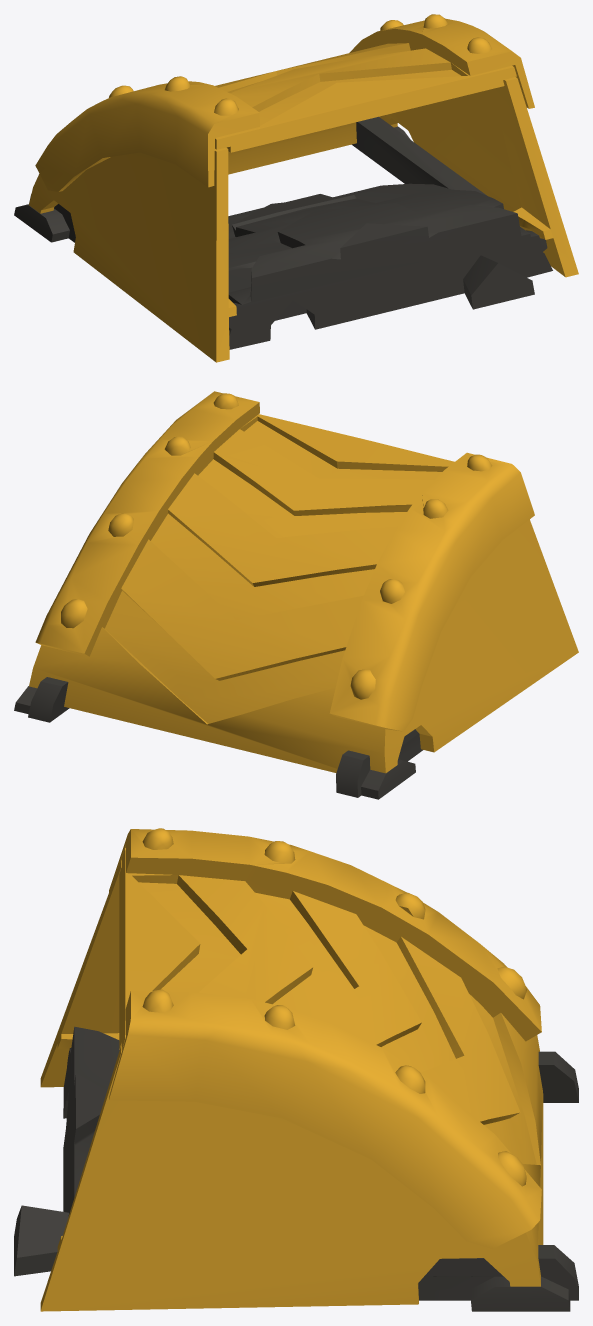
Rendered from underground-belt-input.glb.
3 renders of one model, top to bottom at view 1: azimuth 30°, elevation 25°; view 2: azimuth 150°, elevation 25°; view 3: azimuth 270°, elevation 25°, orthographic. The views are drawn at different scales.
Parts seen in each view (by area): view 1: body; view 2: body; view 3: body.
Boxes of the visible parts, x1,y1,x2,y2 form: body: (14, 14, 578, 362); body: (14, 391, 578, 799); body: (14, 828, 578, 1311).
Bounding box in the file's own units: 0.9951 × 0.5629 × 1.01.
